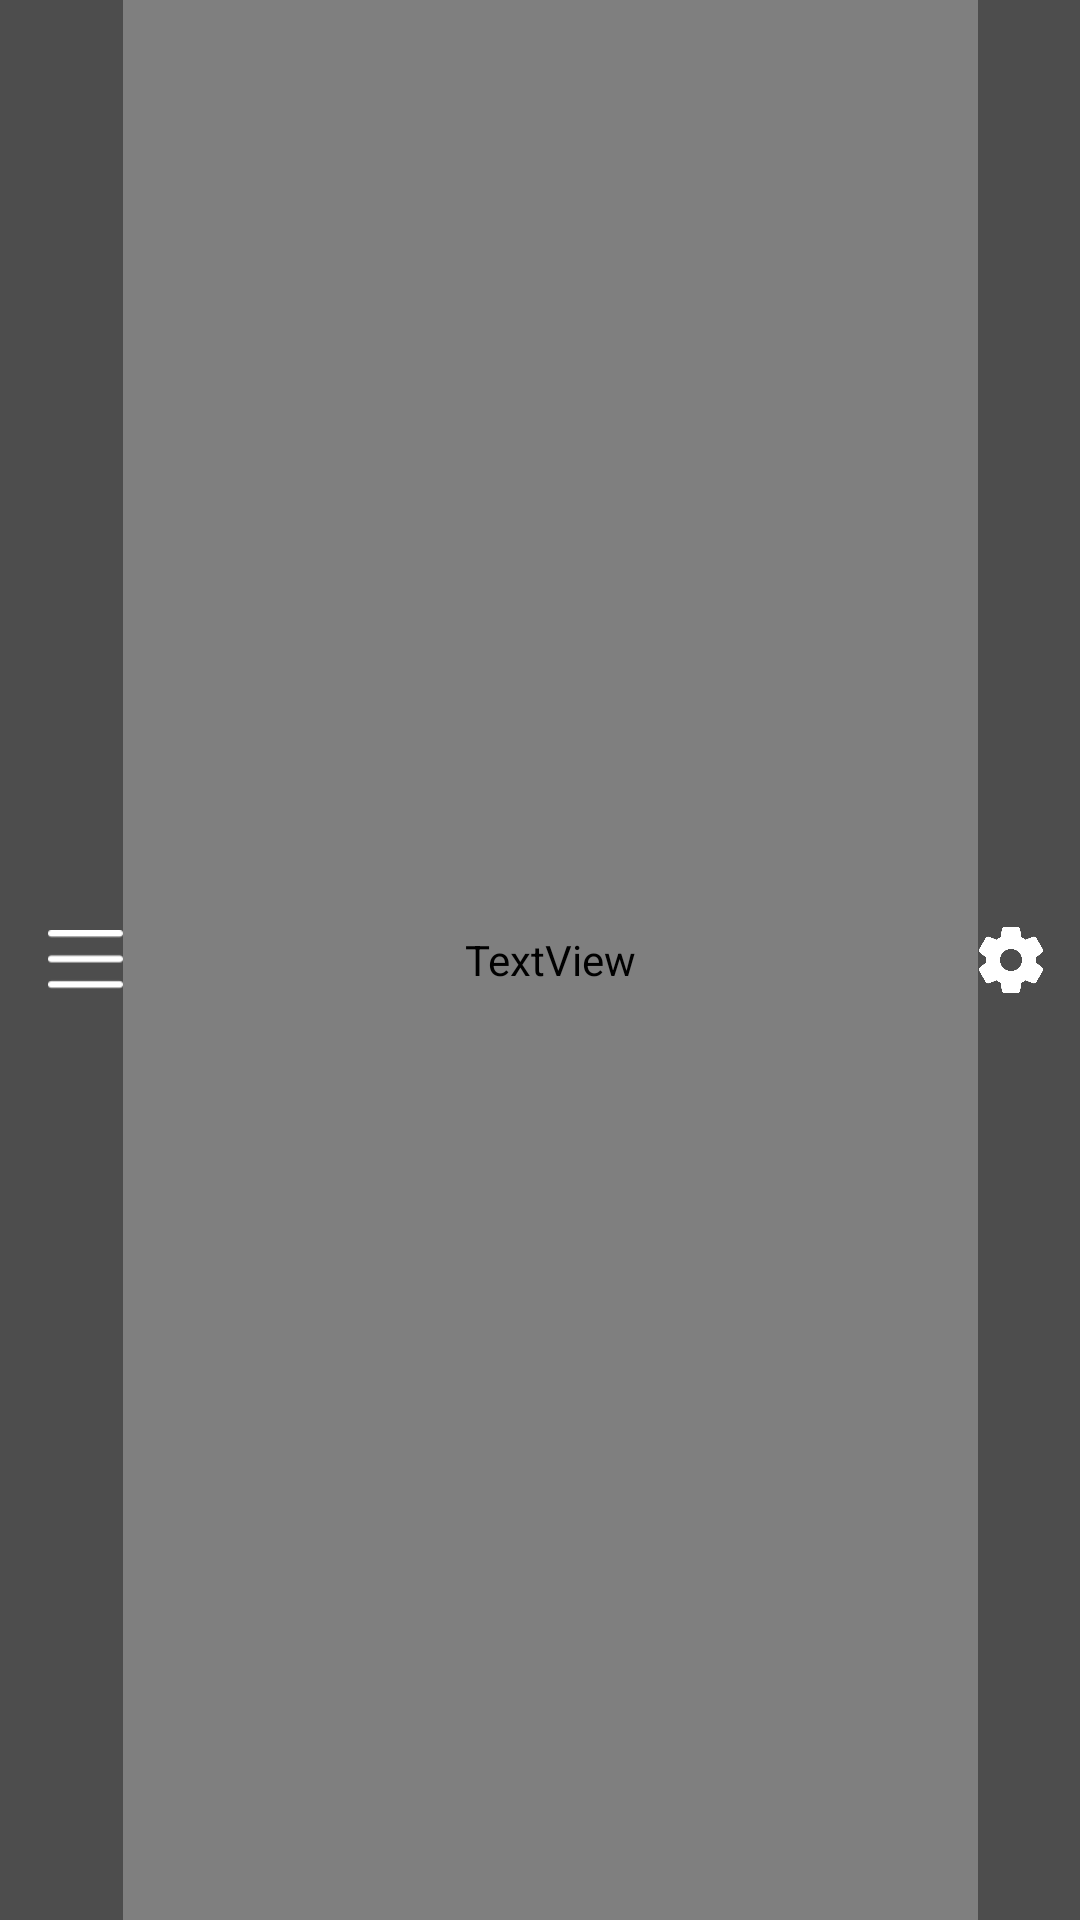

Icon bounding boxes for this 1080 x 1920 phone screenshot, format detection(x1, y1, x2, y2):
menu: detection(48, 930, 123, 989)
settings: detection(979, 927, 1043, 993)
